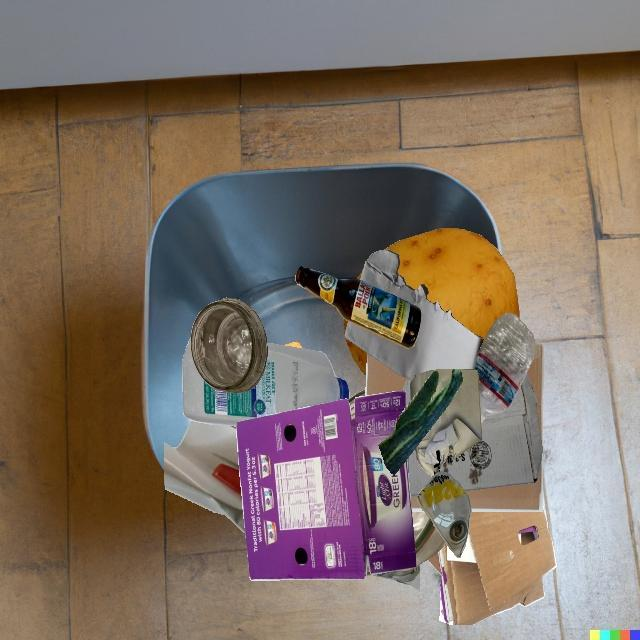biowaste: (415, 229, 520, 345), (379, 369, 463, 475), (285, 342, 302, 348)
cardboard: (236, 391, 417, 580), (417, 344, 535, 502), (438, 503, 556, 625), (465, 344, 543, 512), (439, 373, 542, 491), (410, 373, 526, 462), (403, 345, 481, 389), (365, 353, 408, 396), (407, 448, 432, 497), (427, 552, 443, 577)
glass: (295, 266, 422, 349), (351, 418, 417, 574), (190, 298, 268, 393), (417, 471, 471, 558), (412, 511, 446, 566)
paper: (345, 250, 483, 381), (164, 421, 245, 534), (410, 369, 482, 478)
plastic: (182, 338, 349, 426), (473, 312, 535, 423)
